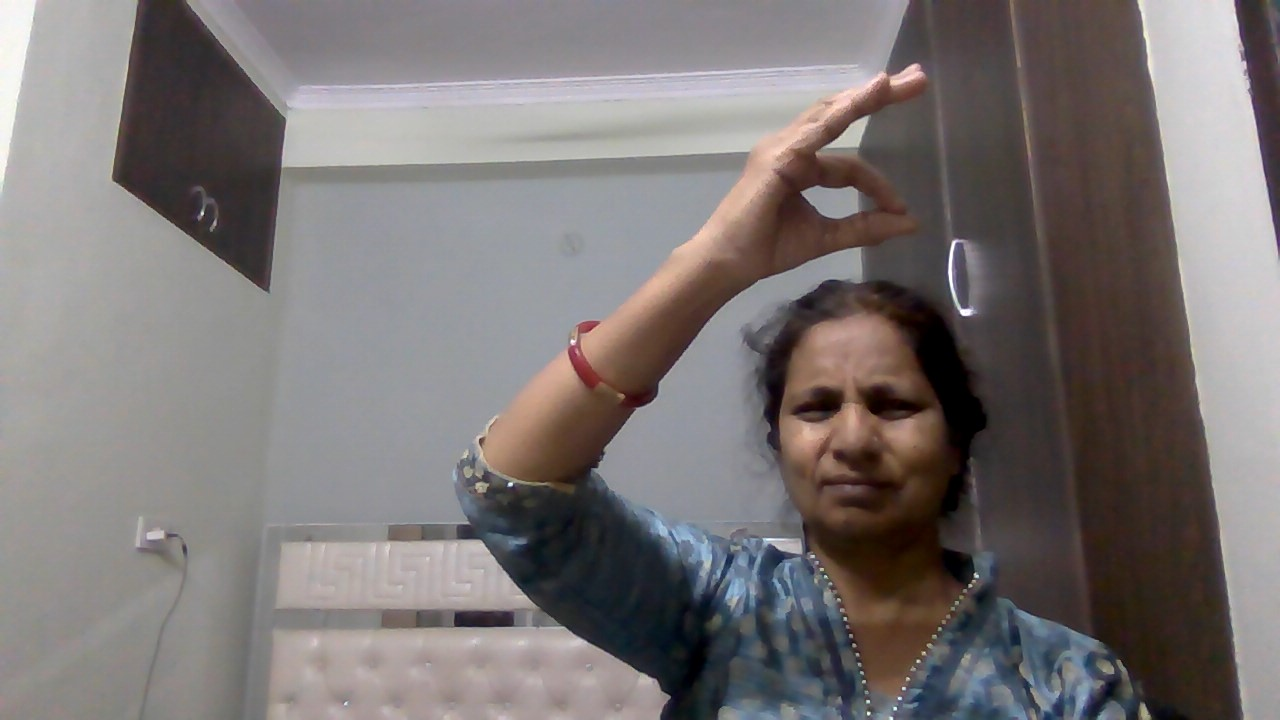Copy: (708, 61, 947, 309)
